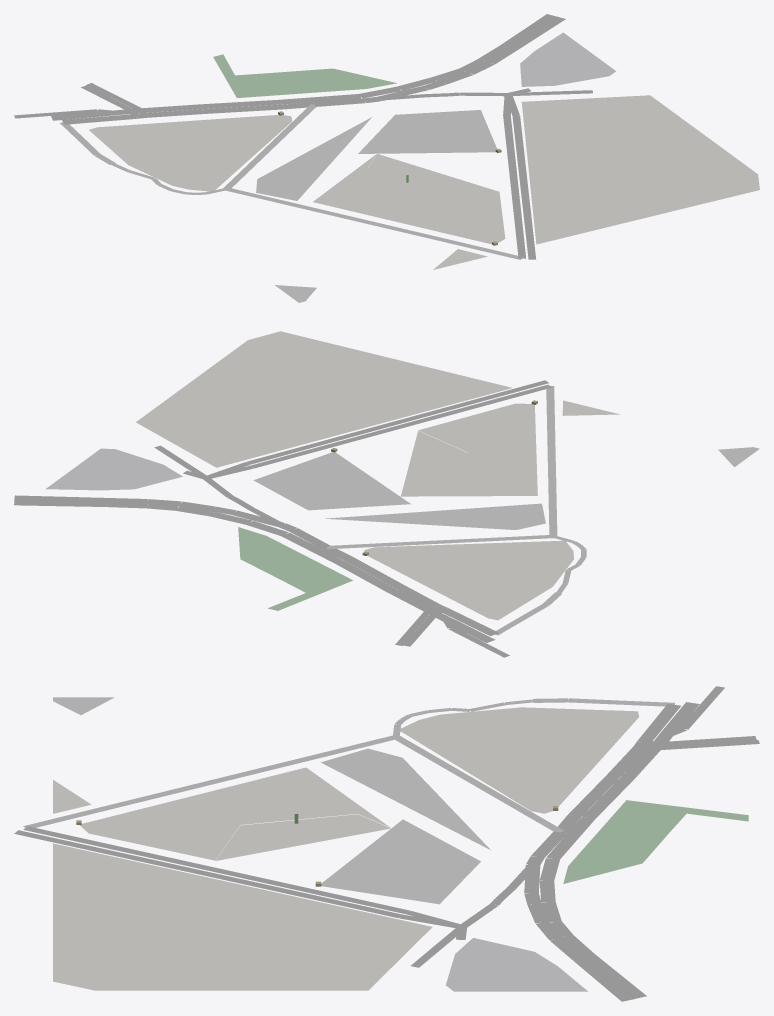
3 renders of one model, top to bottom at view 1: azimuth 30°, elevation 25°; view 2: azimuth 150°, elevation 25°; view 3: azimuth 270°, elevation 25°, orthographic. The views are drawn at different scales.
Bounding box in the file's own units: 540 × 9.53 × 536.
